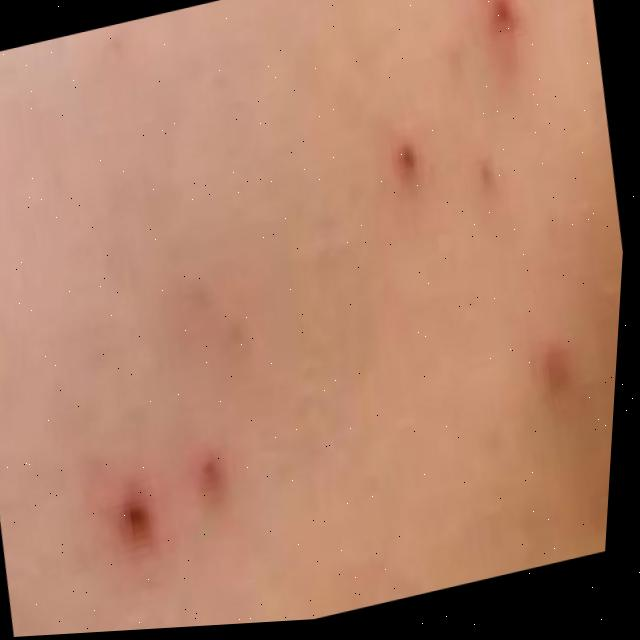Eczema: (361, 0, 570, 204), (93, 436, 266, 565), (509, 331, 583, 399)
